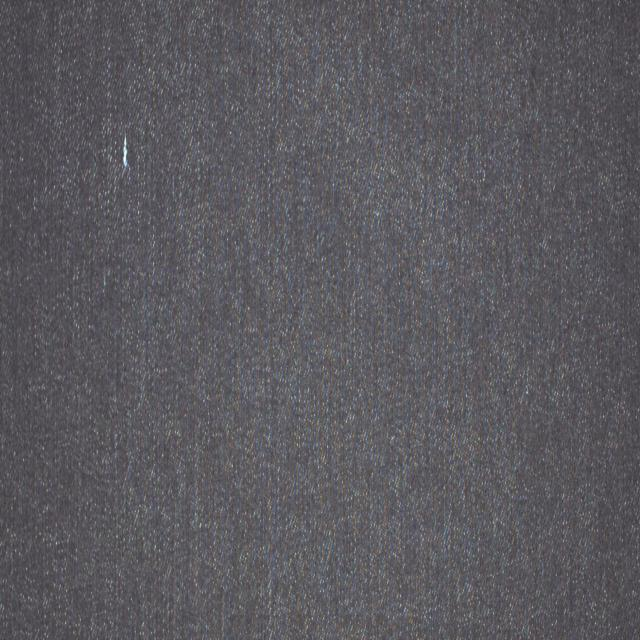Knot: (122, 133, 128, 168)
